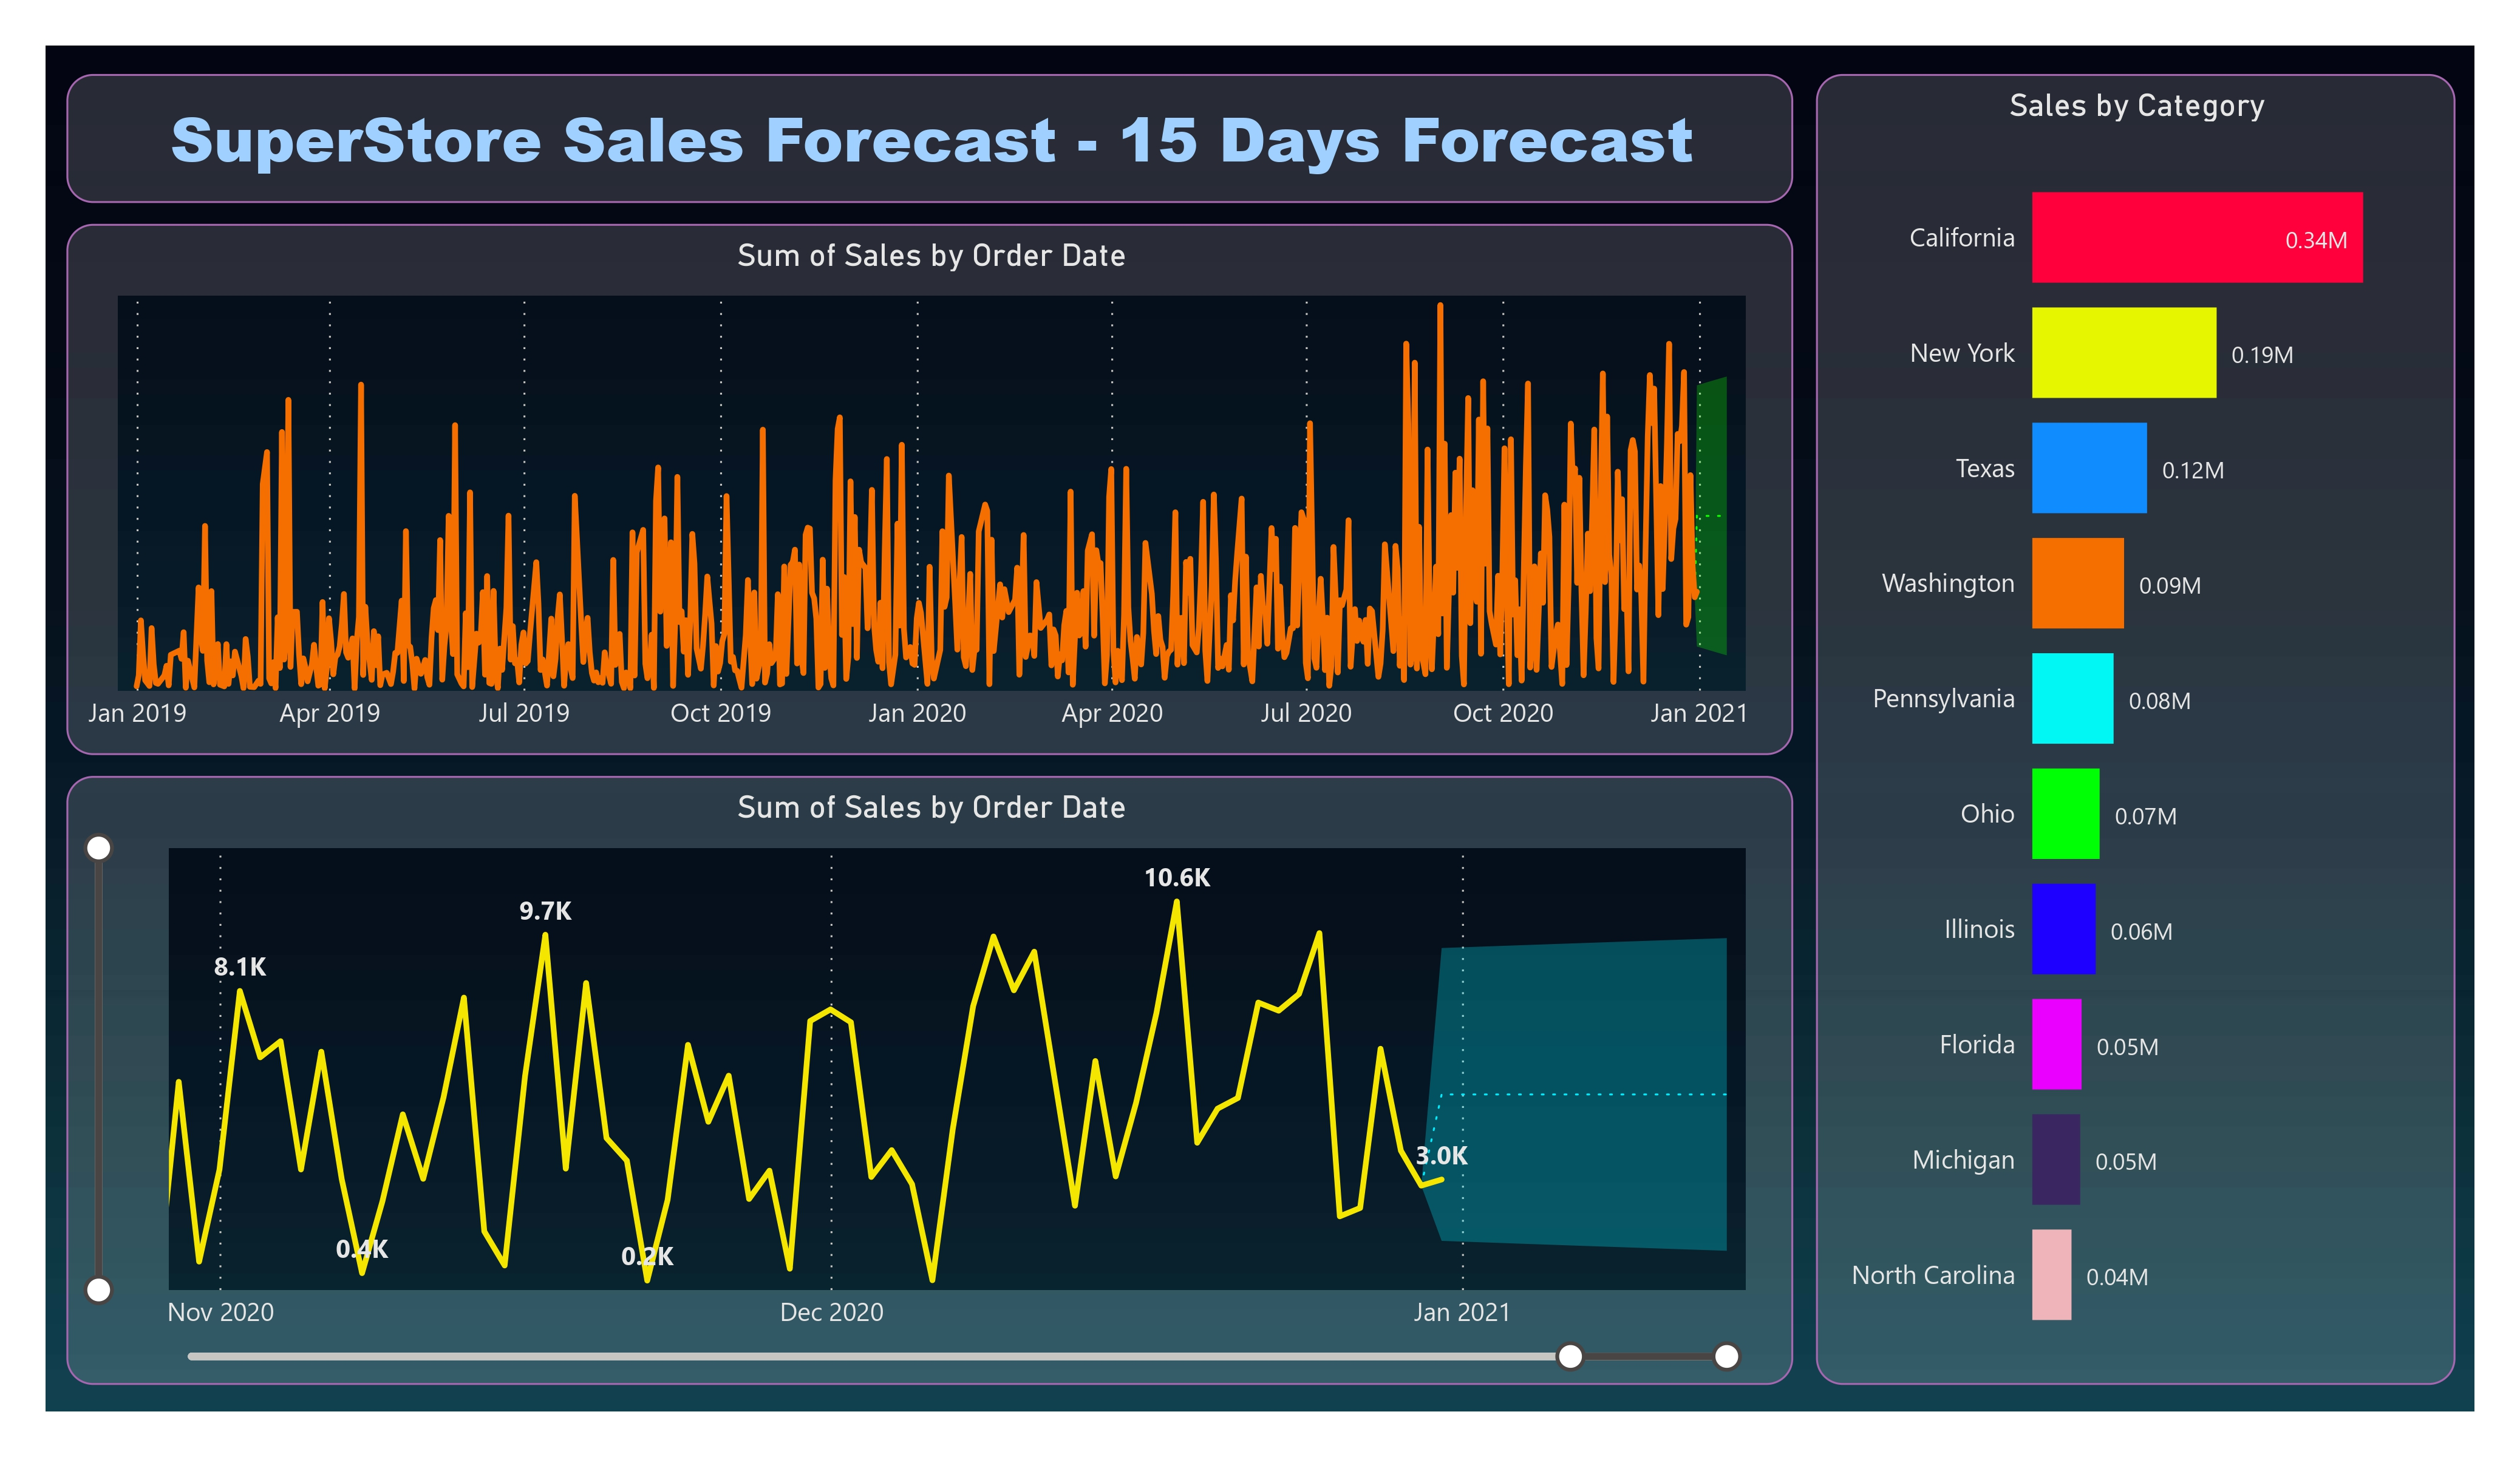

This screenshot's page, from the dashboard's own definition file:
{"tool":"powerbi","page":{"name":"Page 2","canvas":[1280,720],"ordinal":1},"visuals":[{"type":"lineChart","fields":{"Y":["Sum(Sheet1.Sales)"],"Category":["Sheet1.Order Date"]},"box":[11,93.6,909.8,280.8],"z":0},{"type":"clusteredBarChart","title":"Sales by Category","fields":{"Category":["Sheet1.State"],"Y":["Sum(Sheet1.Sales)"]},"box":[933.2,15.1,337.2,690.9],"z":1000},{"type":"textbox","box":[11,15.1,909.8,67.4],"z":2000},{"type":"lineChart","fields":{"Y":["Sum(Sheet1.Sales)"],"Category":["Sheet1.Order Date"]},"box":[11,385.4,909.8,320.7],"z":3000}]}

Visuals, with their boxes in screenshot pixels (x1, y1, x2, y2):
lineChart - Sum(Sheet1.Sales) x Sheet1.Order Date: [left=66, top=223, right=1793, bottom=756]
"Sales by Category" clusteredBarChart: [left=1816, top=74, right=2456, bottom=1385]
textbox: [left=66, top=74, right=1793, bottom=202]
lineChart - Sum(Sheet1.Sales) x Sheet1.Order Date: [left=66, top=776, right=1793, bottom=1385]
